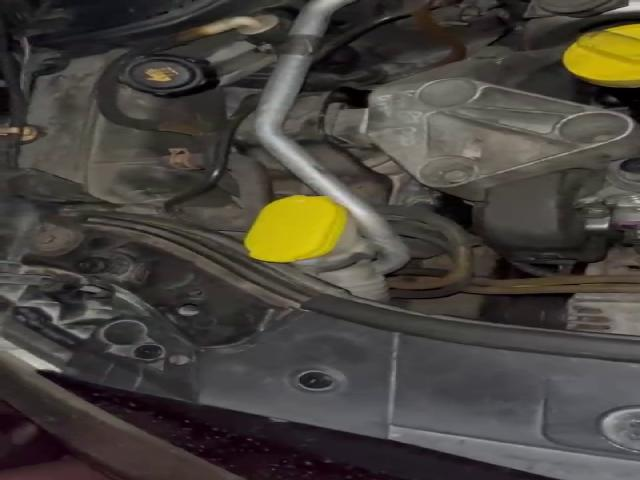antifreeze_tank: (20, 50, 221, 204)
